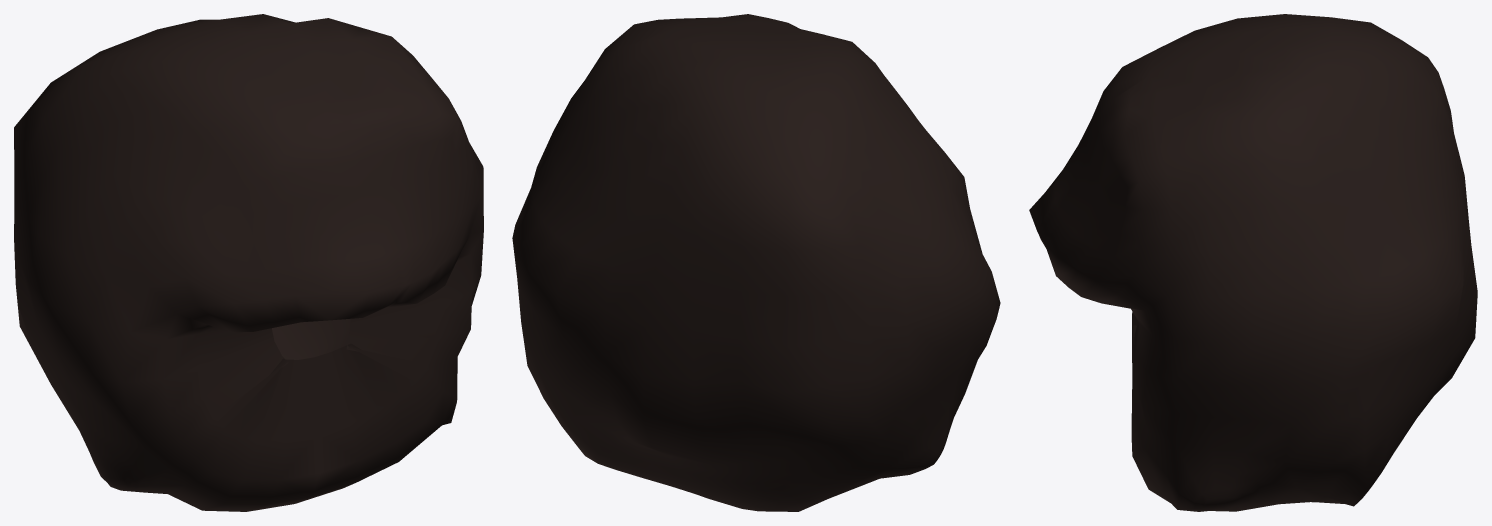
Rendered from Hair_3.fbx.
The picture shows the model from 3 angles, left to right: view 1: azimuth 30°, elevation 25°; view 2: azimuth 150°, elevation 25°; view 3: azimuth 270°, elevation 25°; orthographic projection.
Parts seen in each view (by area): view 1: hair_2_3; view 2: hair_2_3; view 3: hair_2_3.
Boxes of the visible parts, x1=… form: hair_2_3: x1=14, y1=14, x2=483, y2=511; hair_2_3: x1=512, y1=14, x2=1000, y2=511; hair_2_3: x1=1029, y1=14, x2=1477, y2=511.
Bounding box in the file's own units: 41.37 × 40.58 × 37.66.
